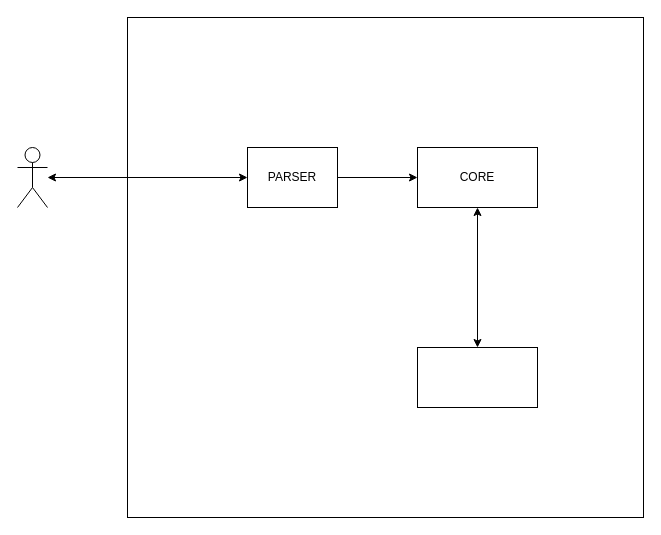
This 661x535 diagram has some shape labels left out. The centre of each missing label's shape, as x and y in pixels:
"Actor" goes at (32,177).
"STORAGE" goes at (477,377).
